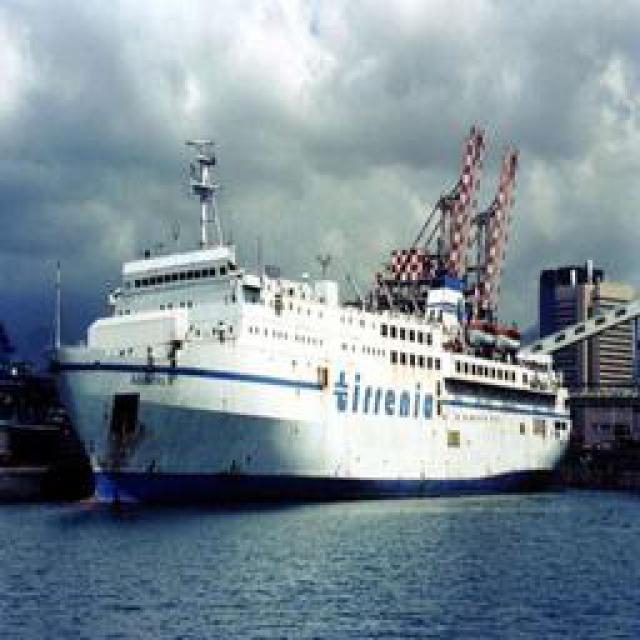Ship: (37, 121, 585, 499)
